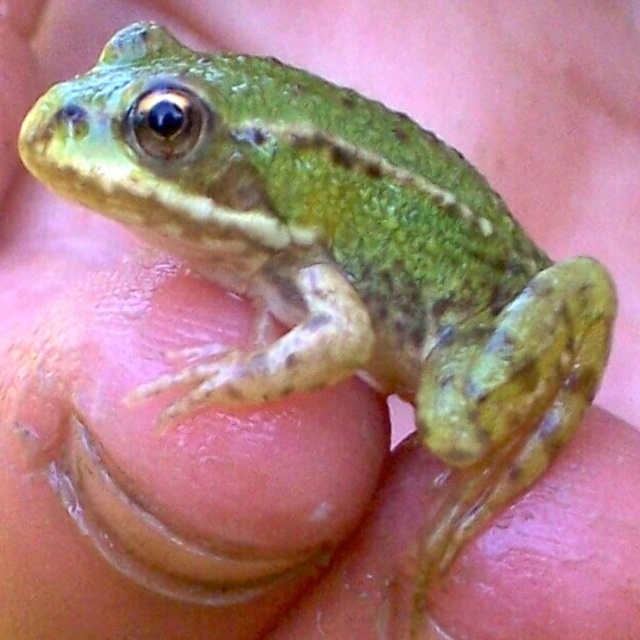Frog: (14, 17, 619, 637)
